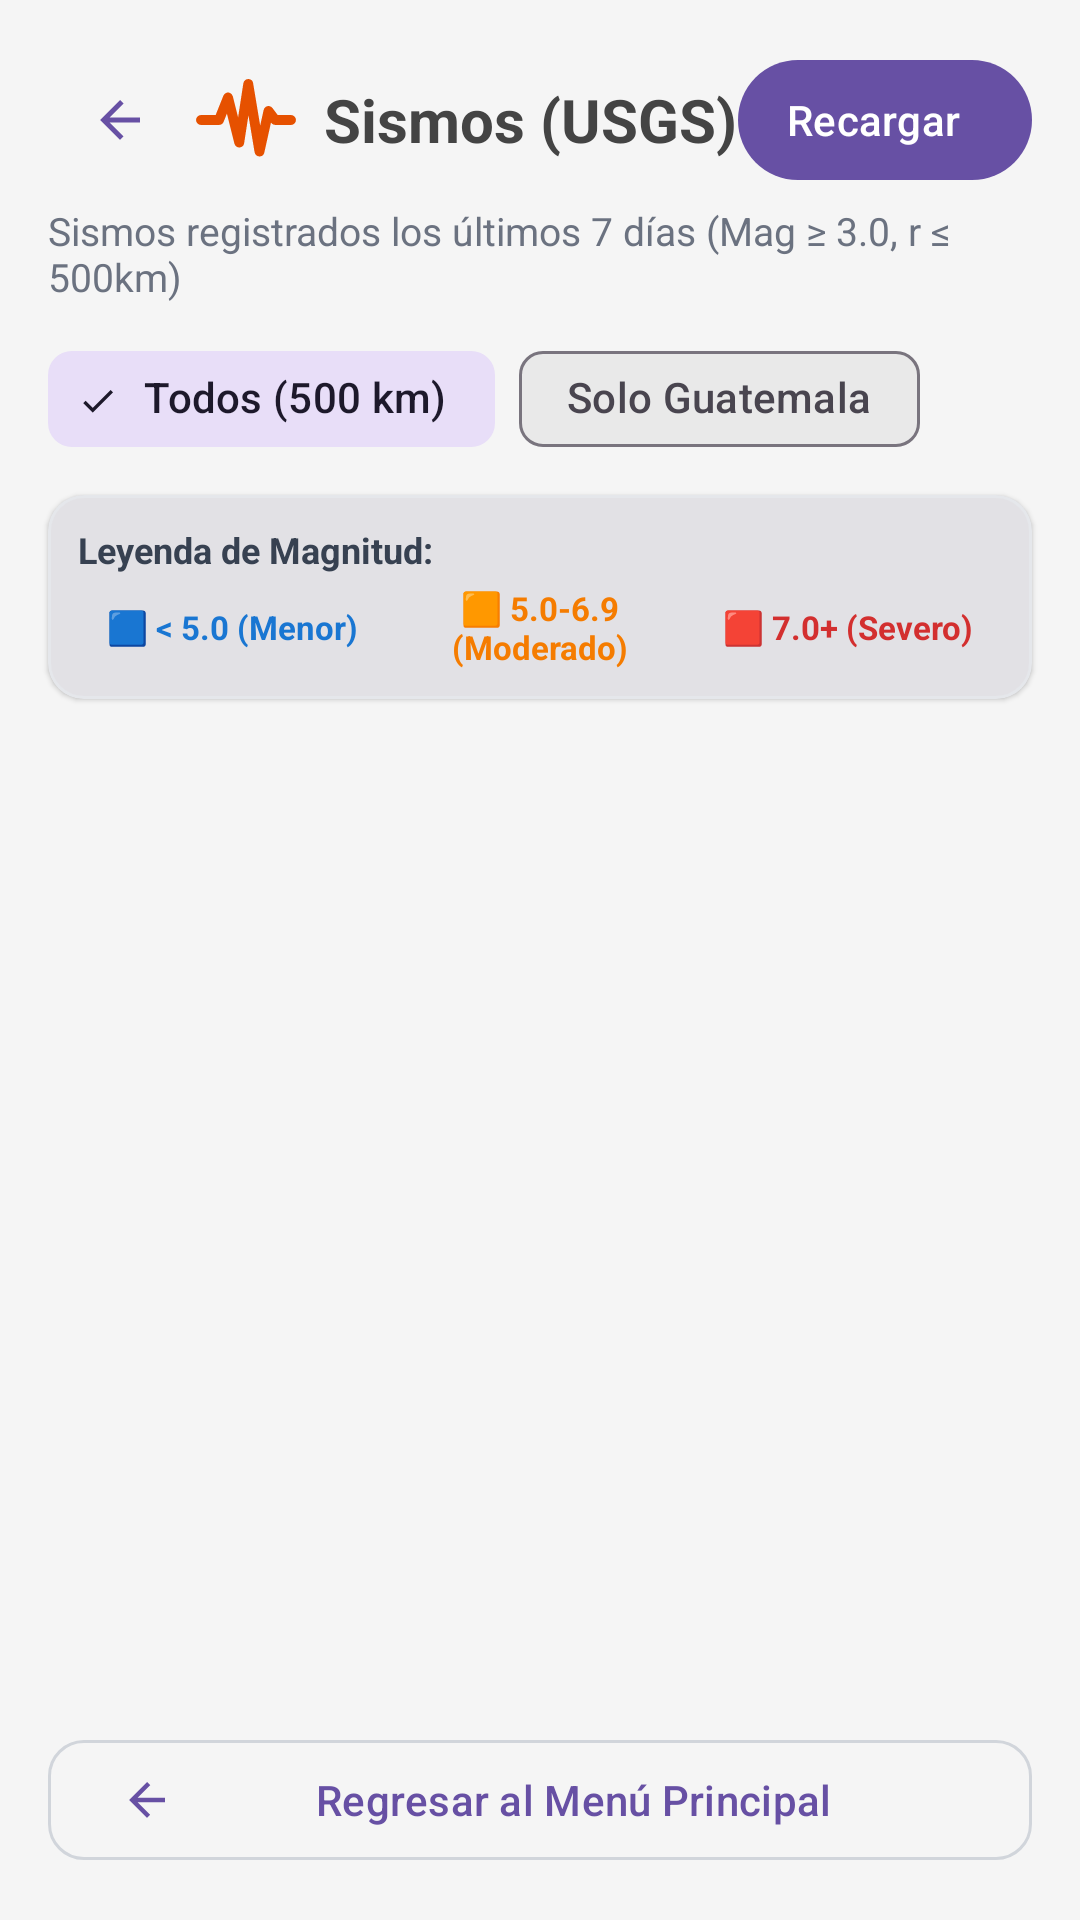

Screen size 1080 x 1920. Icon name, then its box in pixels as (x1, y1, x2, y2):
Icono sismos: (196, 79, 296, 157)
